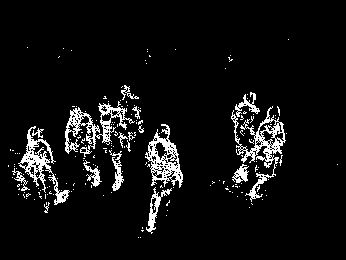person: (144, 120, 184, 233), (19, 125, 70, 207), (246, 104, 286, 202), (64, 103, 104, 185), (97, 95, 126, 198), (229, 88, 255, 184), (116, 82, 144, 153)
